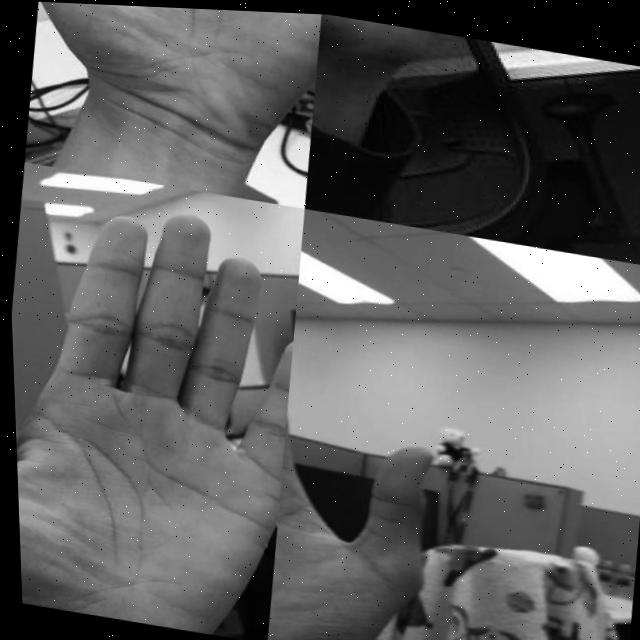hand: (5, 185, 311, 640), (251, 326, 501, 640), (17, 1, 326, 205), (299, 10, 480, 205)
